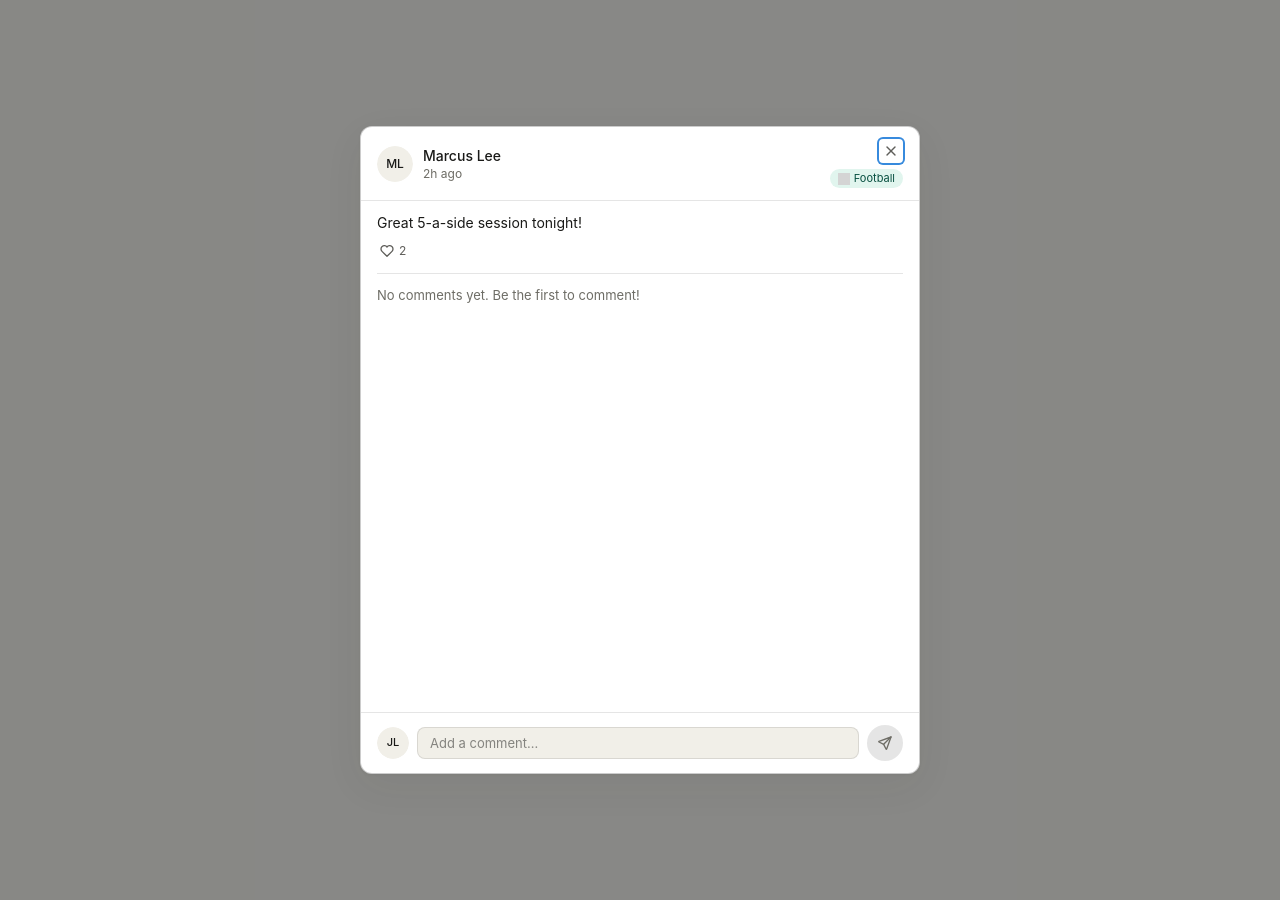
Scenario: CommentSection › send button stays disabled (muted) while the composer is empty, solid once there is text
This screenshot has width=1280, height=900.
Expected: the button named "Post comment" is disabled, [867, 725, 903, 761]
Type "x" into the field labelled "Add a comment" at (638,743), box [417, 727, 859, 759]
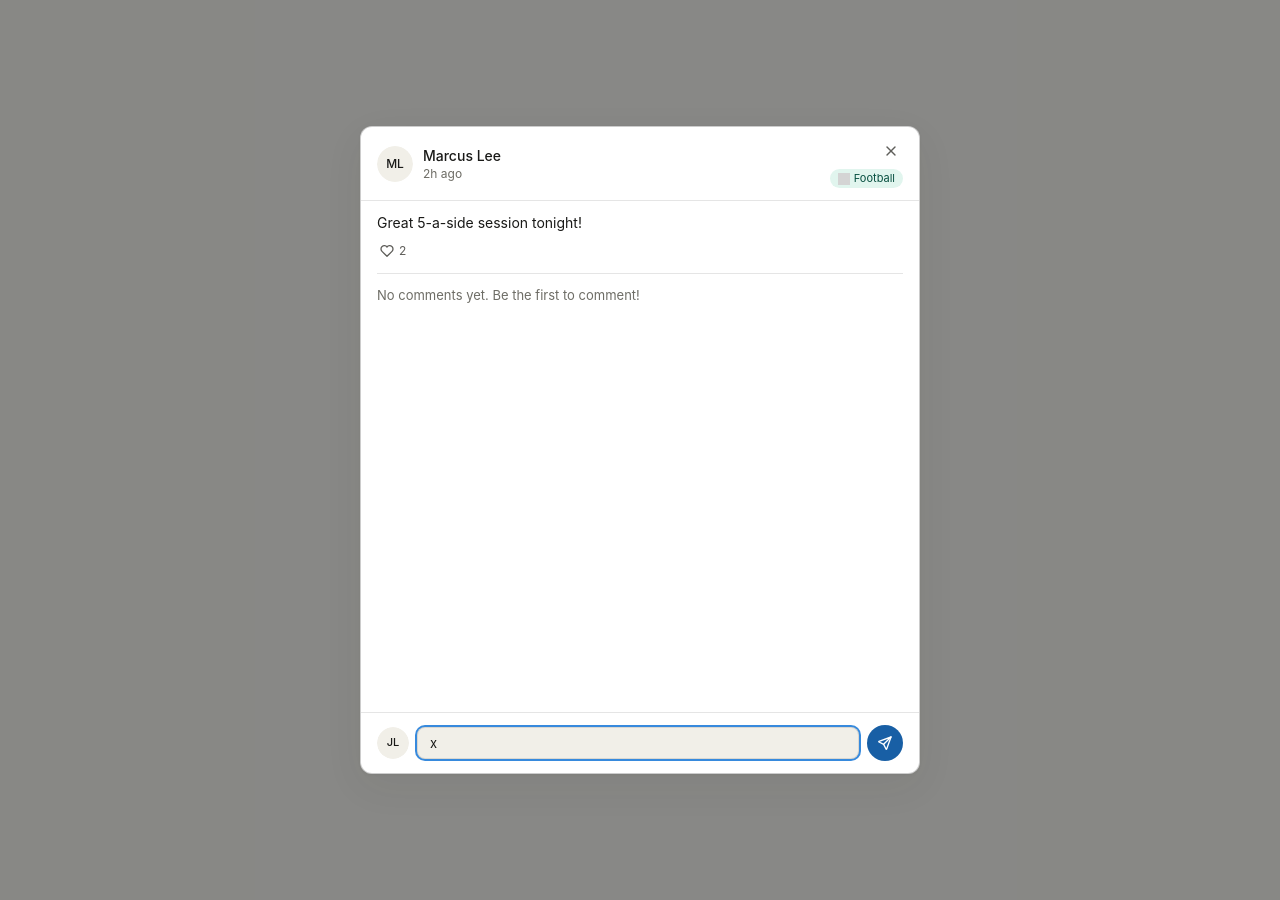
Now the button named "Post comment" is enabled, box [867, 725, 903, 761]
